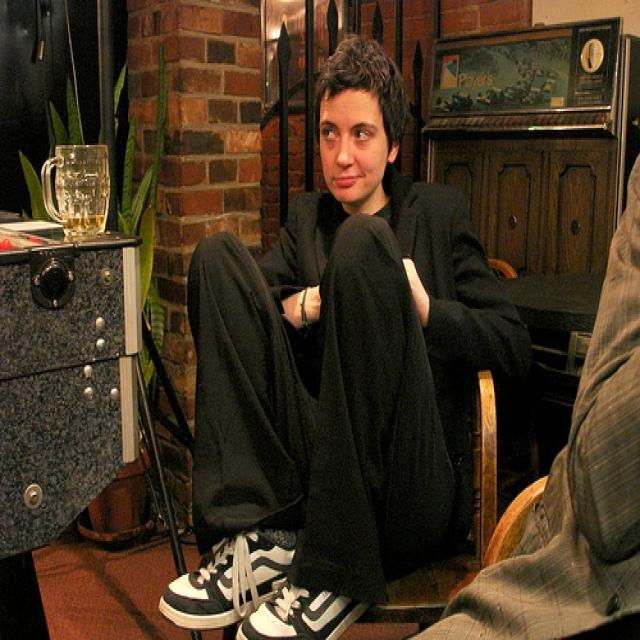person: (155, 34, 536, 640)
pottedplant: (13, 1, 164, 551)
